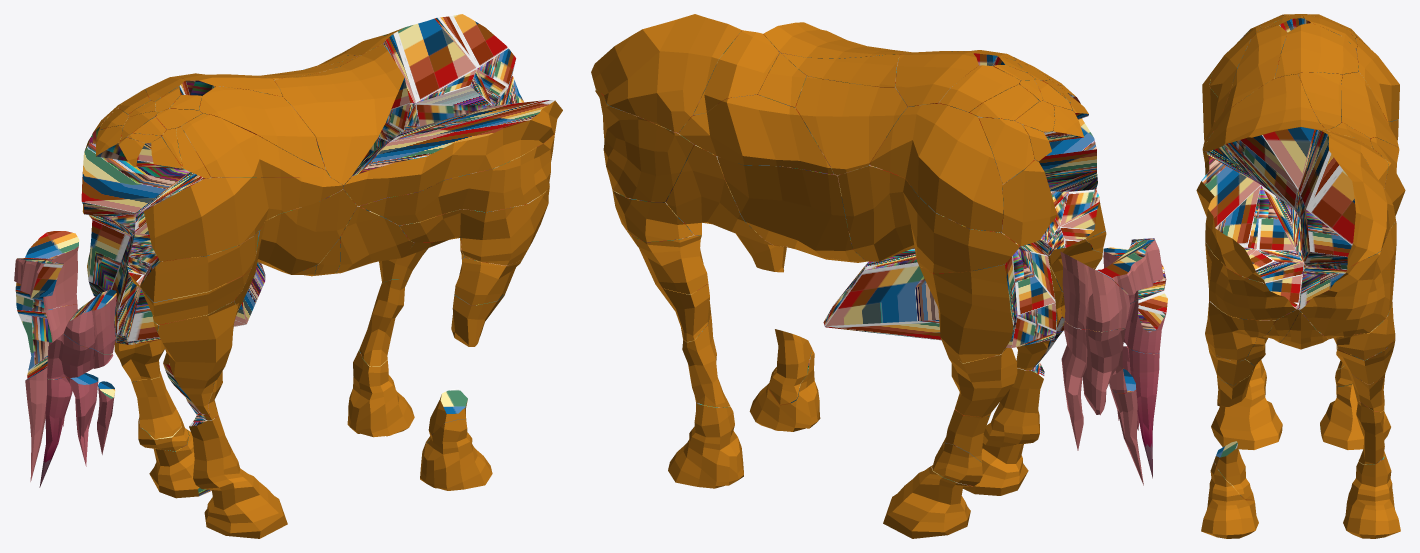
3 views of the same model, side by side, from view 1: azimuth 30°, elevation 25°; view 2: azimuth 150°, elevation 25°; view 3: azimuth 270°, elevation 25° (orthographic). The views are drawn at different scales.
Visible parts, largest first — view 1: Horse_cell.032, Horse_cell.034, Horse_cell.005, Horse_cell.051, Horse_cell.060, Horse_cell.003, Horse_cell.092, Horse_cell.009, Horse_cell.025, Horse_cell.074, Horse_cell.136, Horse_cell.138 (+32 smaller); view 2: Horse_cell.109, Horse_cell.041, Horse_cell.051, Horse_cell.124, Horse_cell.011, Horse_cell.117, Horse_cell.063, Horse_cell.091, Horse_cell.140, Horse_cell.003, Horse_cell.143, Horse_cell.040 (+33 smaller); view 3: Horse_cell.051, Horse_cell.032, Horse_cell.034, Horse_cell.140, Horse_cell.060, Horse_cell.040, Horse_cell.003, Horse_cell.006, Horse_cell.136, Horse_cell.016, Horse_cell.009, Horse_cell.063 (+19 smaller).
Boxes of the visible parts, bbox=[...] form: Horse_cell.032: bbox=[343, 100, 562, 206]; Horse_cell.034: bbox=[274, 44, 410, 186]; Horse_cell.005: bbox=[143, 177, 342, 261]; Horse_cell.051: bbox=[381, 14, 516, 126]; Horse_cell.060: bbox=[359, 131, 555, 225]; Horse_cell.003: bbox=[189, 415, 287, 538]; Horse_cell.092: bbox=[128, 178, 357, 310]; Horse_cell.009: bbox=[399, 188, 549, 265]; Horse_cell.025: bbox=[181, 113, 329, 177]; Horse_cell.074: bbox=[158, 301, 237, 415]; Horse_cell.136: bbox=[199, 86, 325, 170]; Horse_cell.138: bbox=[81, 140, 189, 216]; Horse_cell.109: bbox=[870, 103, 1003, 232]; Horse_cell.041: bbox=[823, 243, 1057, 348]; Horse_cell.051: bbox=[591, 14, 742, 132]; Horse_cell.124: bbox=[838, 165, 1020, 273]; Horse_cell.011: bbox=[717, 156, 865, 261]; Horse_cell.117: bbox=[678, 94, 833, 174]; Horse_cell.063: bbox=[795, 76, 907, 175]; Horse_cell.091: bbox=[919, 256, 1017, 363]; Horse_cell.140: bbox=[595, 90, 693, 202]; Horse_cell.003: bbox=[963, 362, 1044, 495]; Horse_cell.143: bbox=[1061, 321, 1126, 450]; Horse_cell.040: bbox=[668, 402, 743, 488]; Horse_cell.051: bbox=[1300, 134, 1395, 269]; Horse_cell.032: bbox=[1196, 152, 1305, 283]; Horse_cell.034: bbox=[1203, 74, 1326, 210]; Horse_cell.140: bbox=[1299, 221, 1396, 335]; Horse_cell.060: bbox=[1205, 214, 1302, 319]; Horse_cell.040: bbox=[1343, 455, 1400, 538]; Horse_cell.003: bbox=[1211, 360, 1282, 449]; Horse_cell.006: bbox=[1274, 23, 1358, 78]; Horse_cell.136: bbox=[1213, 25, 1287, 131]; Horse_cell.016: bbox=[1201, 461, 1258, 538]; Horse_cell.009: bbox=[1205, 300, 1275, 362]; Horse_cell.063: bbox=[1341, 72, 1398, 147].
Size of the model in its own units: 397 by 315 by 148.
